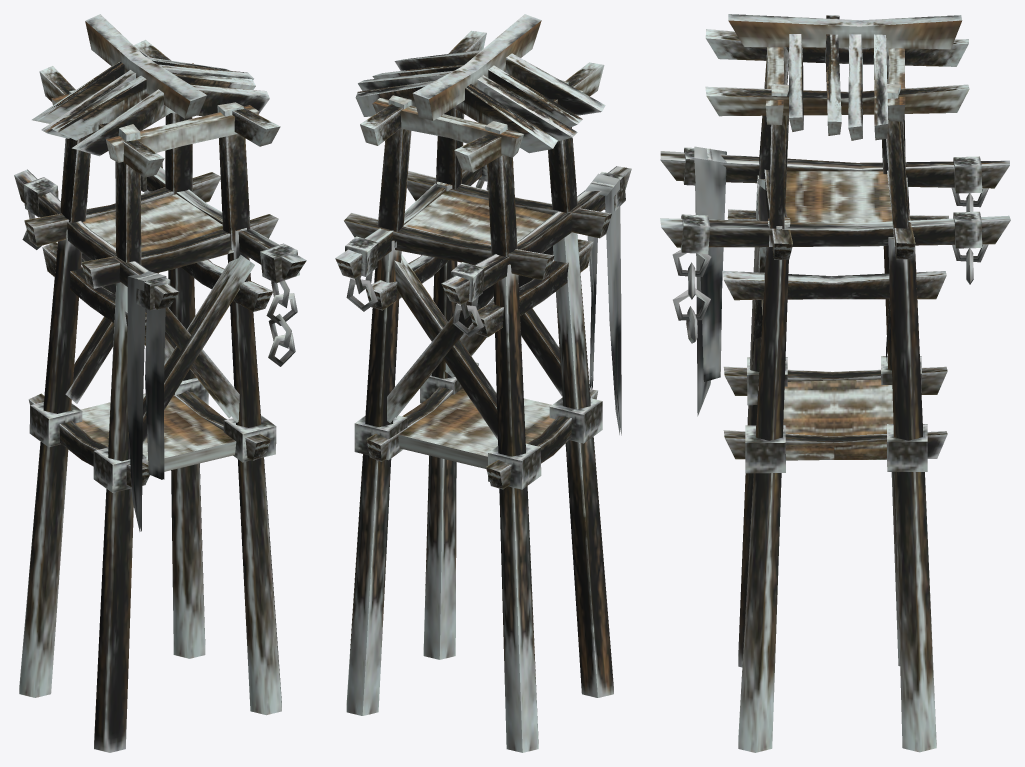
Rendered from S_Build_Snowland112.FBX.
The picture shows the model from 3 angles, left to right: view 1: azimuth 30°, elevation 25°; view 2: azimuth 150°, elevation 25°; view 3: azimuth 270°, elevation 25°; orthographic projection. The views are drawn at different scales.
Visible parts, largest first — view 1: S_Build_Snowland112; view 2: S_Build_Snowland112; view 3: S_Build_Snowland112.
Part boxes in pixels (x1,y1,x2,y2): S_Build_Snowland112: (14,14,306,752); S_Build_Snowland112: (335,14,631,752); S_Build_Snowland112: (660,14,1010,752).
Size of the model in its own units: 323 by 436 by 942.
